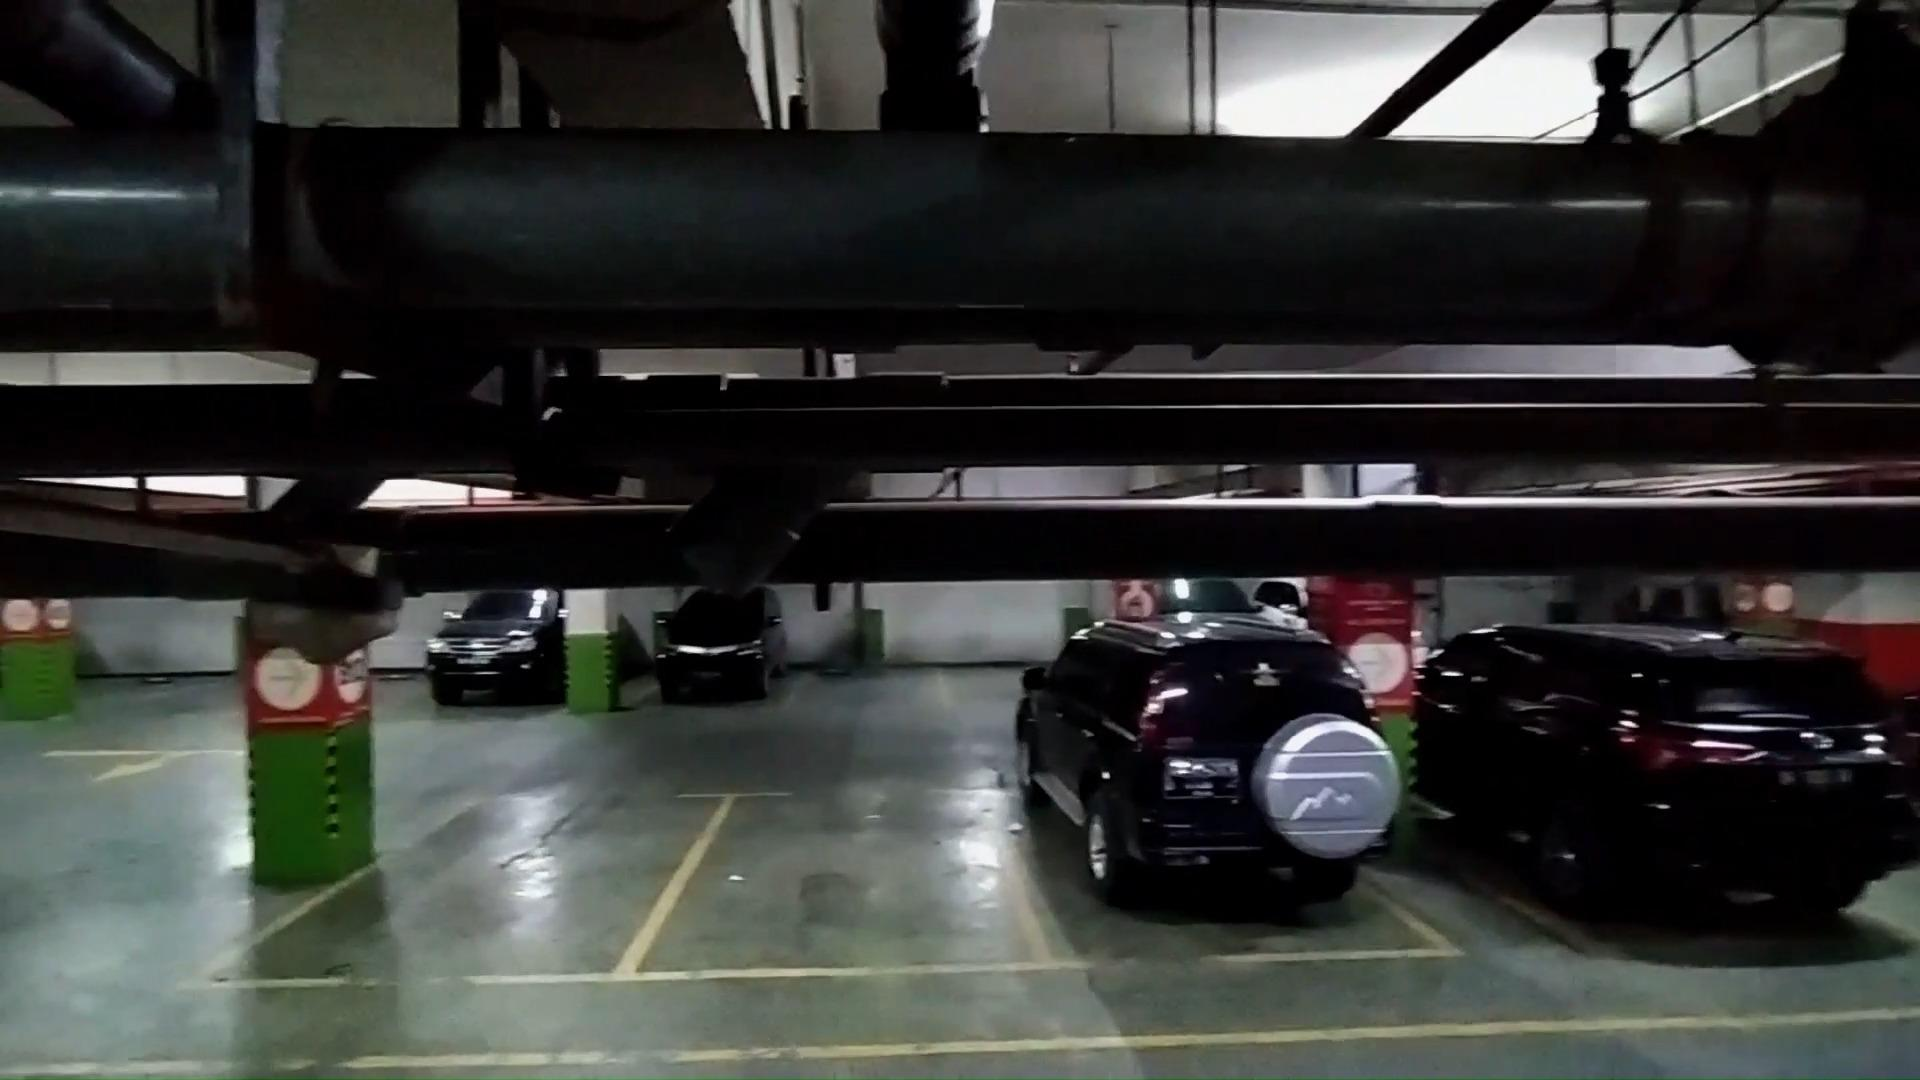empty: (312, 796, 712, 990), (682, 789, 1006, 979)
occupied: (1007, 716, 1409, 964)
